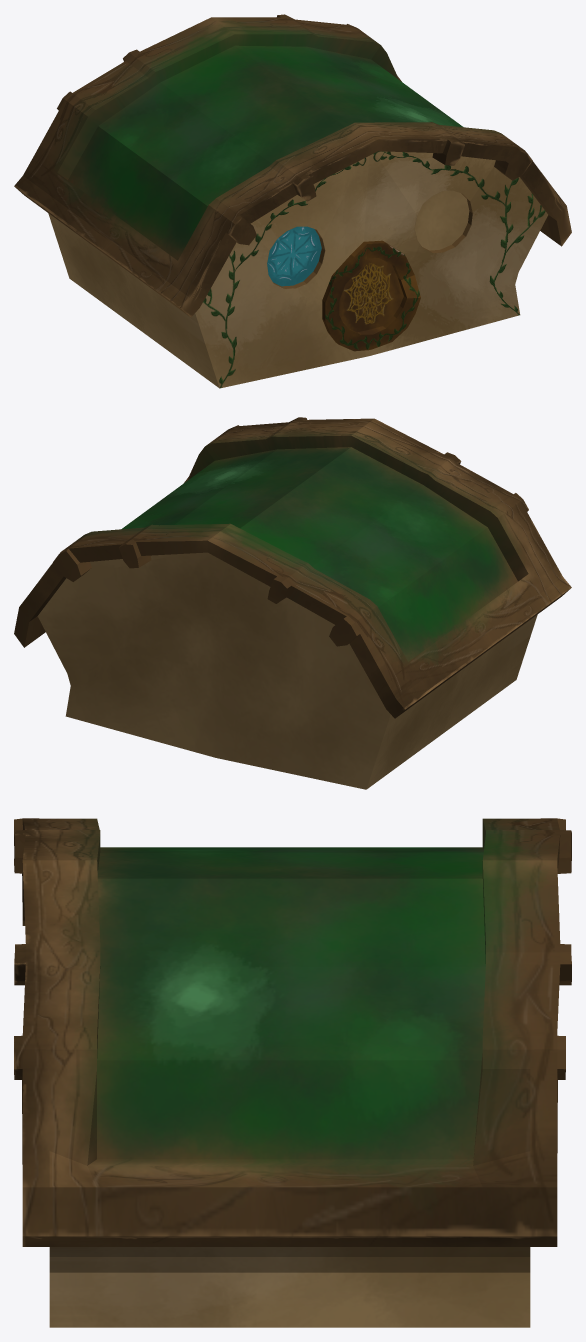
The model's file is ruined_mole_house.fbx.
3 views of the same model, one above another, from view 1: azimuth 30°, elevation 25°; view 2: azimuth 150°, elevation 25°; view 3: azimuth 270°, elevation 25° (orthographic). The views are drawn at different scales.
Parts seen in each view (by area): view 1: mole_house_vol2_lp.002; view 2: mole_house_vol2_lp.002; view 3: mole_house_vol2_lp.002.
Boxes of the visible parts, box(x1,y1,x2,y2) form: mole_house_vol2_lp.002: box(14, 14, 571, 388); mole_house_vol2_lp.002: box(14, 417, 571, 789); mole_house_vol2_lp.002: box(14, 818, 571, 1327).
Size of the model in its own units: 1025 by 559 by 791.
1 material, 1 textured.
